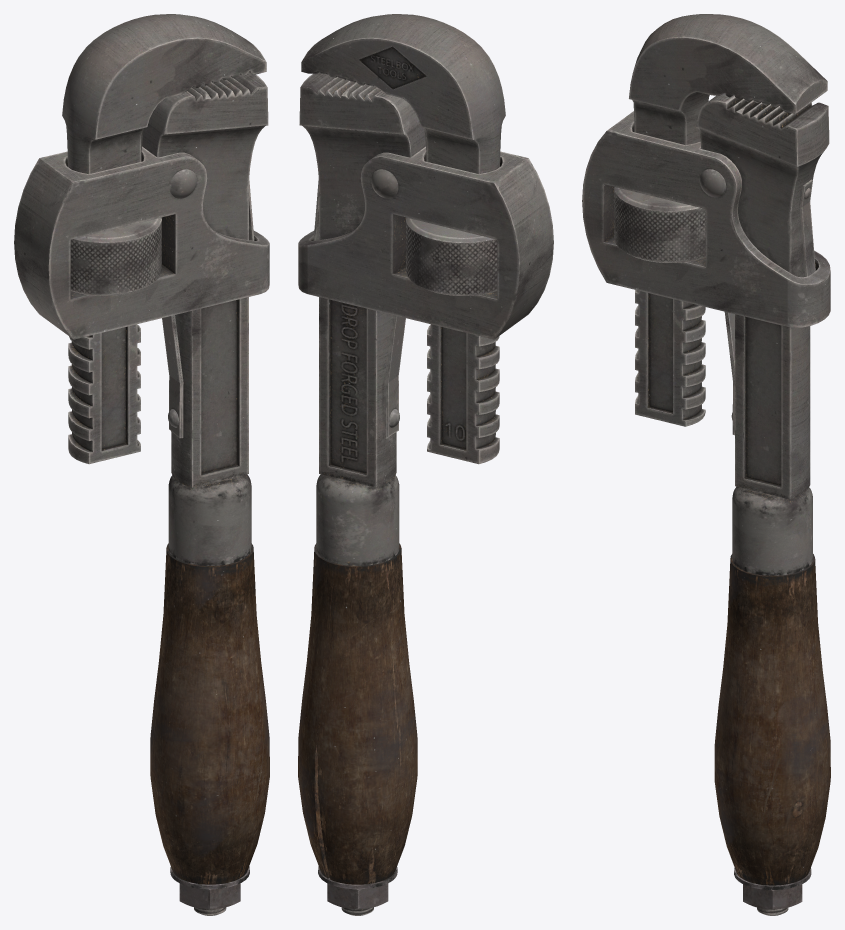
Rendered from adjustable_wrench_2k.gltf.
The picture shows the model from 3 angles, left to right: view 1: azimuth 30°, elevation 25°; view 2: azimuth 150°, elevation 25°; view 3: azimuth 330°, elevation 25°; orthographic projection. The views are drawn at different scales.
Parts seen in each view (by area): view 1: adjustable_wrench, adjustable_wrench_jaw, adjustable_wrench_nut; view 2: adjustable_wrench, adjustable_wrench_jaw, adjustable_wrench_nut; view 3: adjustable_wrench, adjustable_wrench_jaw, adjustable_wrench_nut.
Boxes of the visible parts, <box> form: adjustable_wrench: <box>14,72,269,915</box>; adjustable_wrench_jaw: <box>62,14,266,464</box>; adjustable_wrench_nut: <box>70,217,161,295</box>; adjustable_wrench: <box>298,72,553,915</box>; adjustable_wrench_jaw: <box>301,14,505,464</box>; adjustable_wrench_nut: <box>406,217,497,295</box>; adjustable_wrench: <box>582,93,830,915</box>; adjustable_wrench_jaw: <box>629,14,827,426</box>; adjustable_wrench_nut: <box>614,187,705,262</box>.
Bounding box in the file's own units: 0.0683 × 0.2541 × 0.0306.
1 material, 1 textured.
